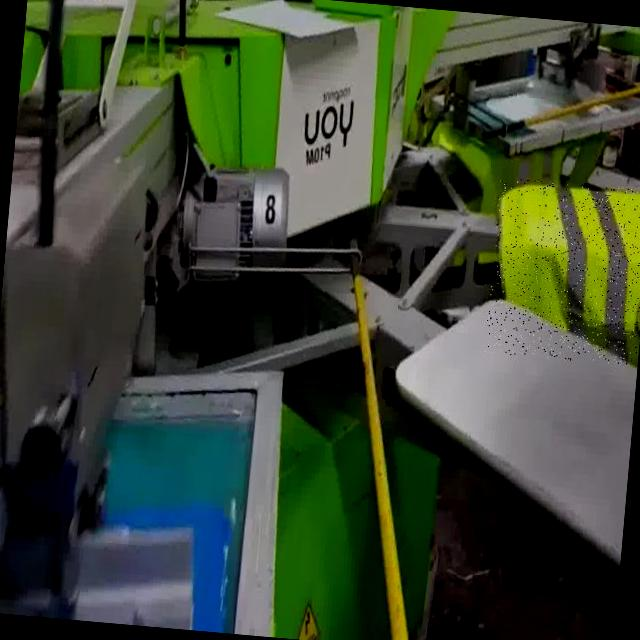vest: (483, 177, 640, 366)
